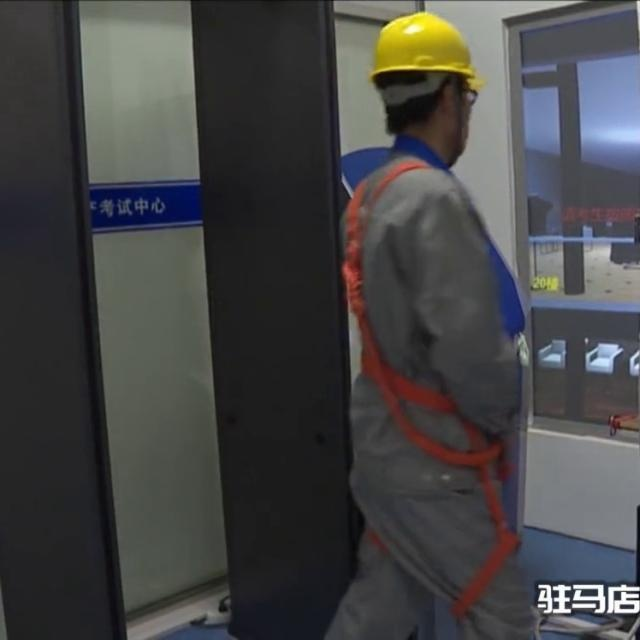Arnes_seguridad: (344, 156, 522, 510)
